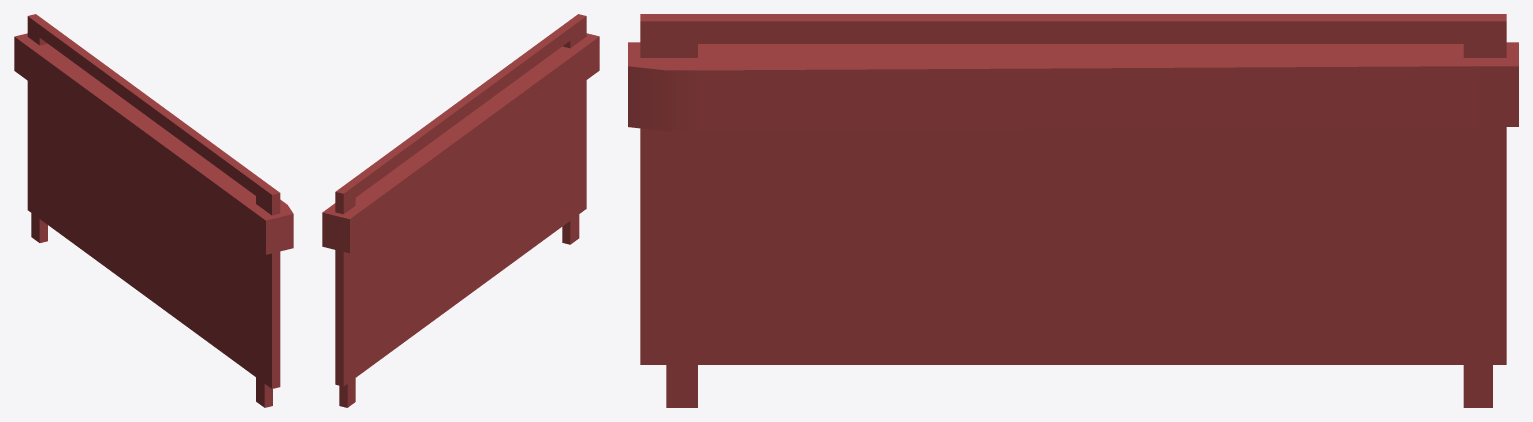
File: 7_SignLight.fbx
3 renders of one model, left to right at view 1: azimuth 30°, elevation 25°; view 2: azimuth 150°, elevation 25°; view 3: azimuth 270°, elevation 25°, orthographic. The views are drawn at different scales.
Parts seen in each view (by area): view 1: pasted__pasted__pCube114; view 2: pasted__pasted__pCube114; view 3: pasted__pasted__pCube114.
Boxes of the visible parts, x1=… form: pasted__pasted__pCube114: x1=14, y1=14, x2=293, y2=407; pasted__pasted__pCube114: x1=322, y1=14, x2=599, y2=407; pasted__pasted__pCube114: x1=628, y1=14, x2=1518, y2=407.
Size of the model in its own units: 0.3886 by 2.49 by 5.2.
